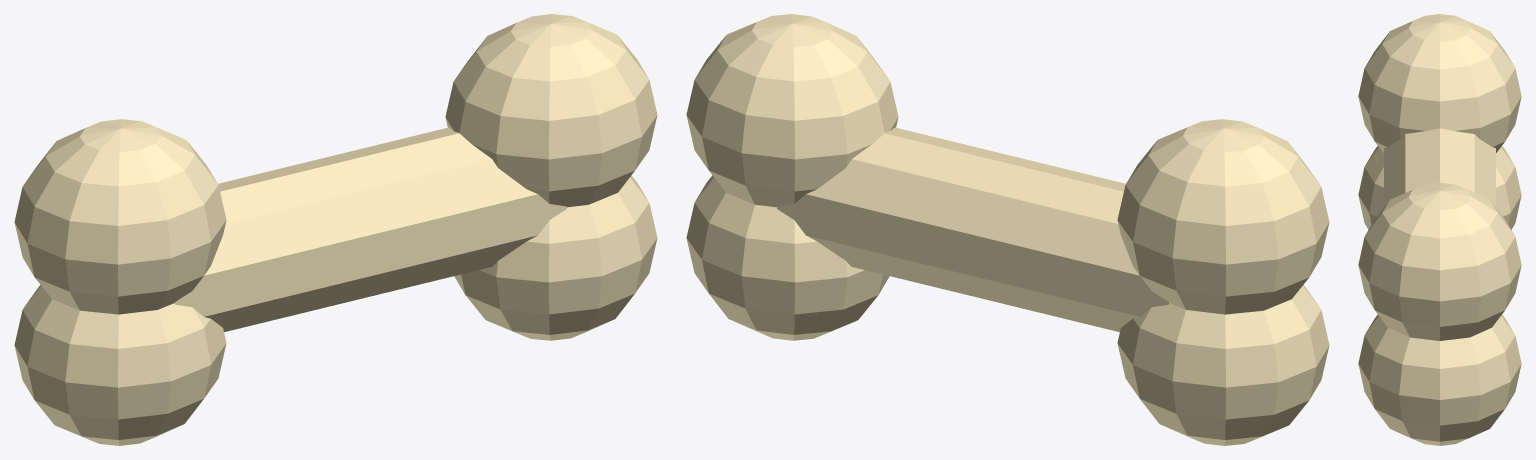
File: bone.glb
3 renders of one model, left to right at view 1: azimuth 30°, elevation 25°; view 2: azimuth 150°, elevation 25°; view 3: azimuth 270°, elevation 25°, orthographic. The views are drawn at different scales.
Parts seen in each view (by area): view 1: Bone, Knuckle.001, Knuckle.003, Knuckle, Knuckle.002; view 2: Bone, Knuckle.001, Knuckle.003, Knuckle, Knuckle.002; view 3: Knuckle.003, Knuckle.001, Knuckle.002, Bone, Knuckle.
Boxes of the visible parts, x1,y1,x2,y2 form: Bone: [174, 127, 566, 332]; Knuckle.001: [14, 119, 226, 314]; Knuckle.003: [445, 14, 657, 207]; Knuckle: [14, 285, 226, 445]; Knuckle.002: [454, 175, 657, 340]; Bone: [777, 127, 1169, 332]; Knuckle.001: [1117, 119, 1329, 314]; Knuckle.003: [686, 14, 898, 207]; Knuckle: [1117, 285, 1329, 445]; Knuckle.002: [686, 175, 889, 340]; Knuckle.003: [1358, 182, 1521, 340]; Knuckle.001: [1358, 14, 1521, 152]; Knuckle.002: [1358, 314, 1521, 445]; Bone: [1384, 128, 1495, 206]; Knuckle: [1358, 146, 1521, 229].
Size of the model in its own units: 1.26 by 0.6 by 0.36.
